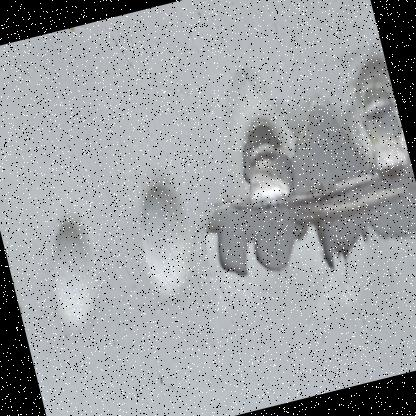Crack: (149, 0, 415, 348)
